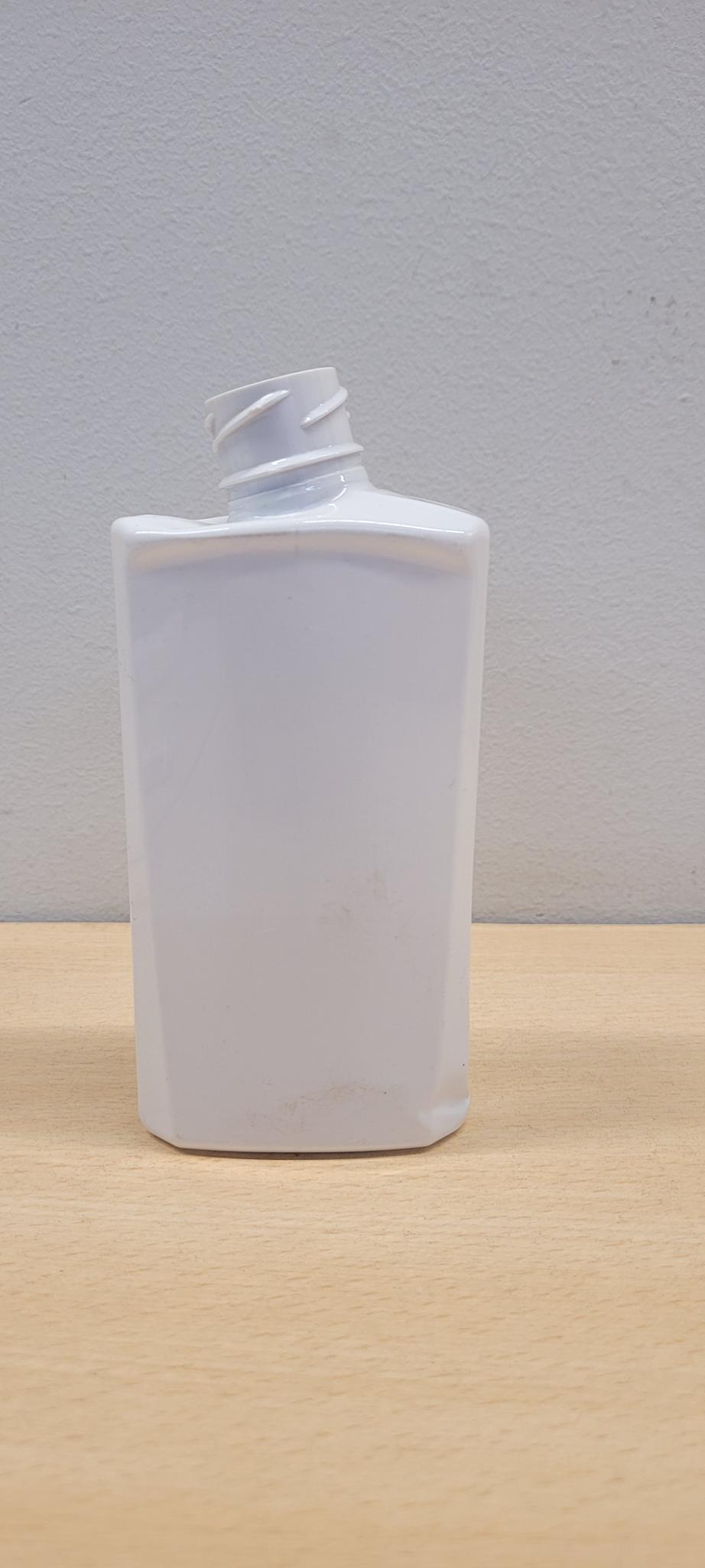bottle: (112, 366, 489, 1154)
